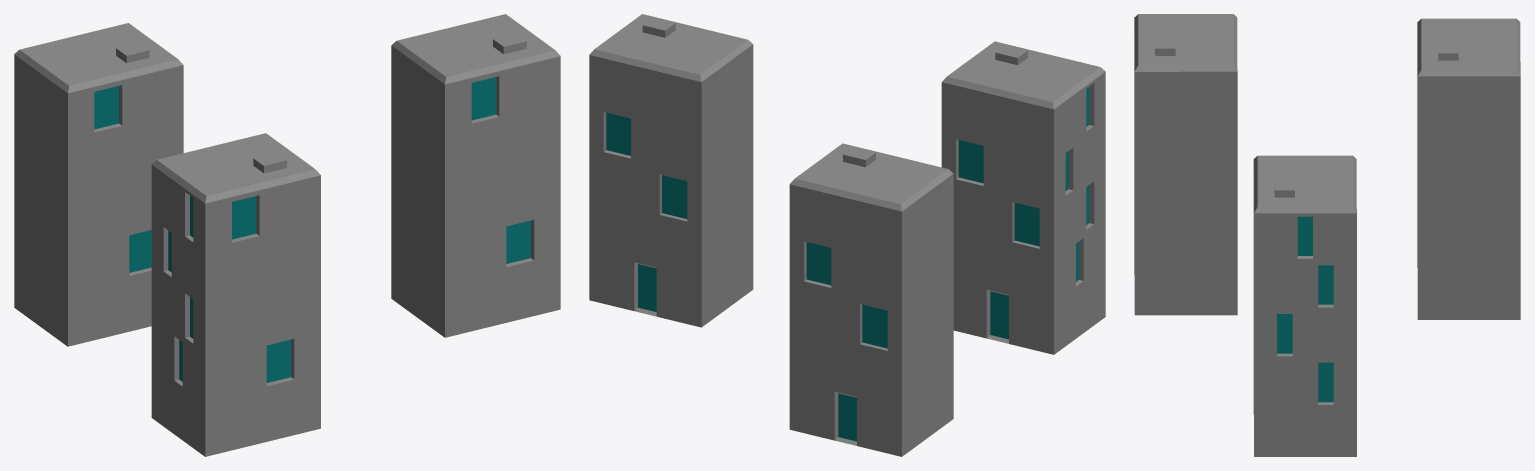
Rendered from edificio.fbx.
3 renders of one model, left to right at view 1: azimuth 30°, elevation 25°; view 2: azimuth 150°, elevation 25°; view 3: azimuth 270°, elevation 25°, orthographic. The views are drawn at different scales.
Parts seen in each view (by area): view 1: Box089; view 2: Box089; view 3: Box089.
Boxes of the visible parts, x1,y1,x2,y2 form: Box089: (14, 14, 560, 456); Box089: (589, 14, 1105, 456); Box089: (1134, 14, 1520, 456).
Size of the model in its own units: 499 by 416 by 304.
